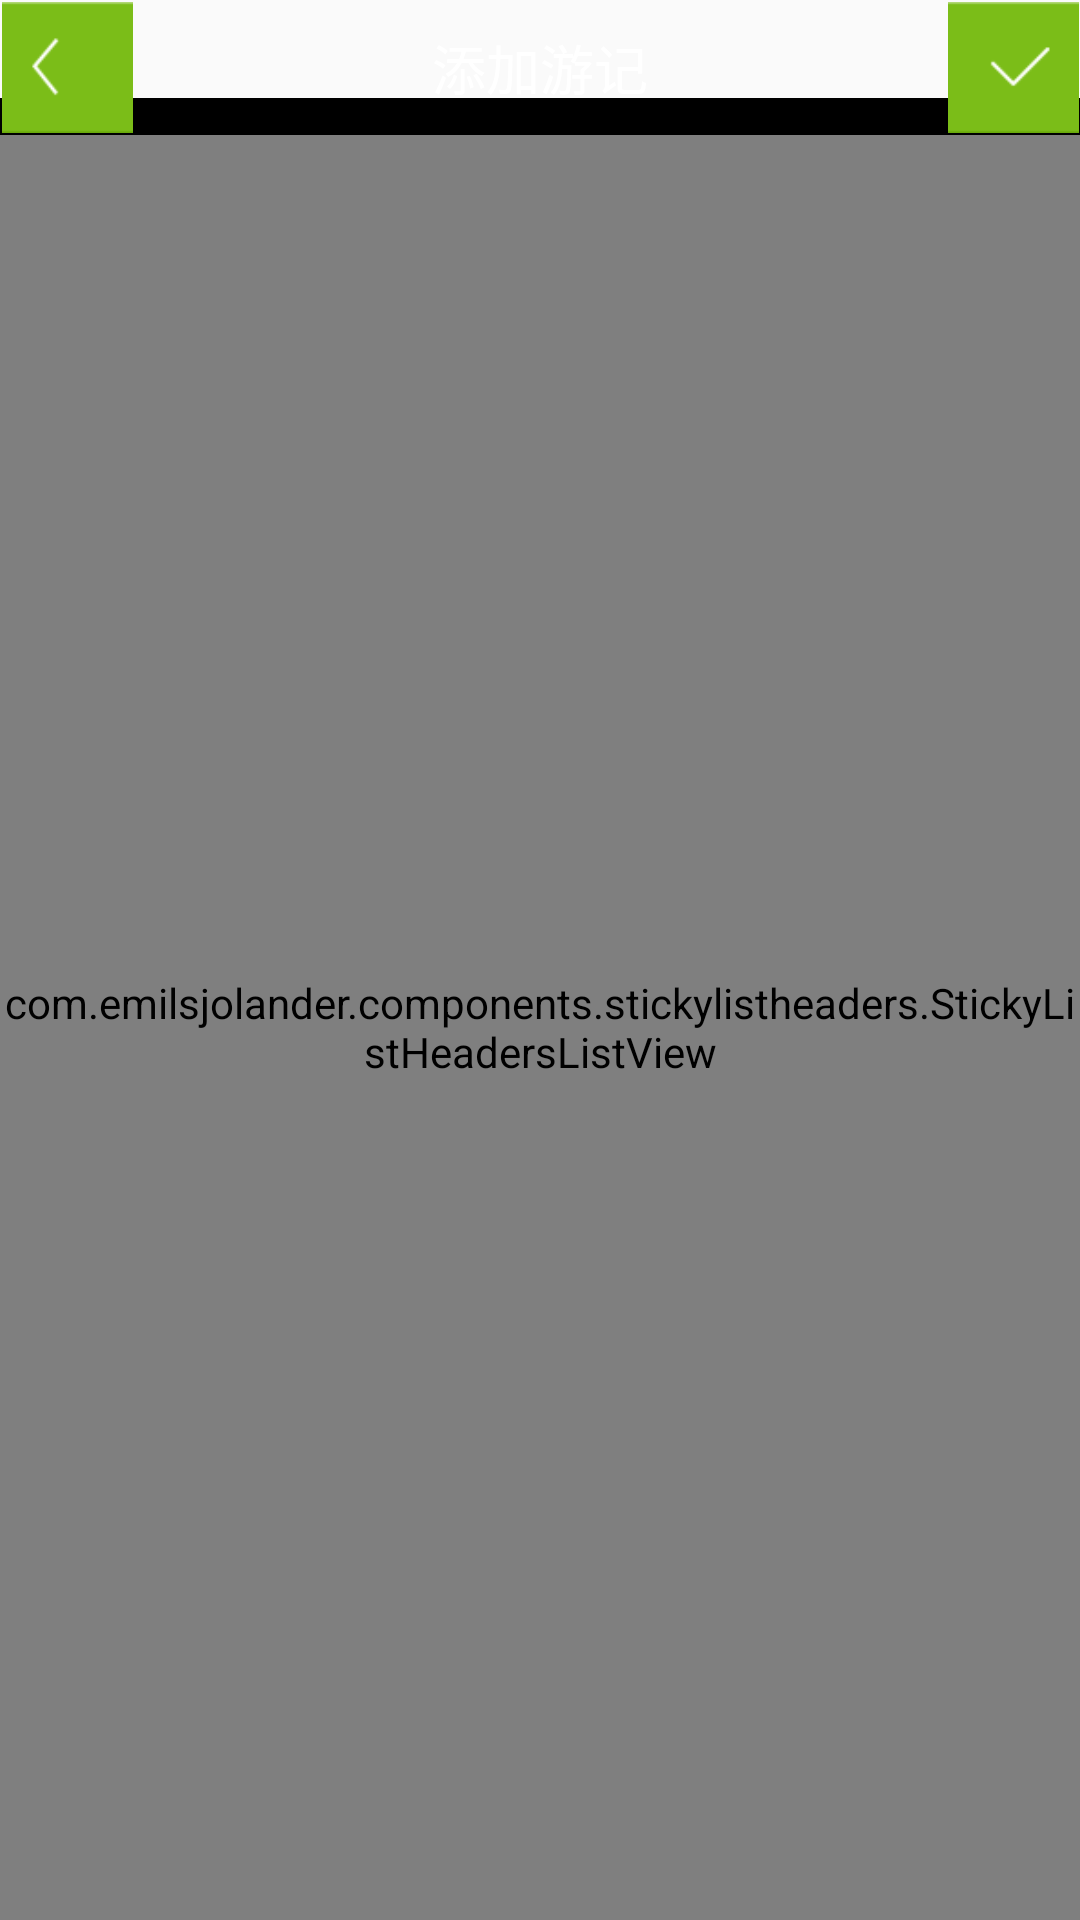

Point at icon controls on the screen. Image size 1080*1920, points as [x,y].
home back: [84,67]
